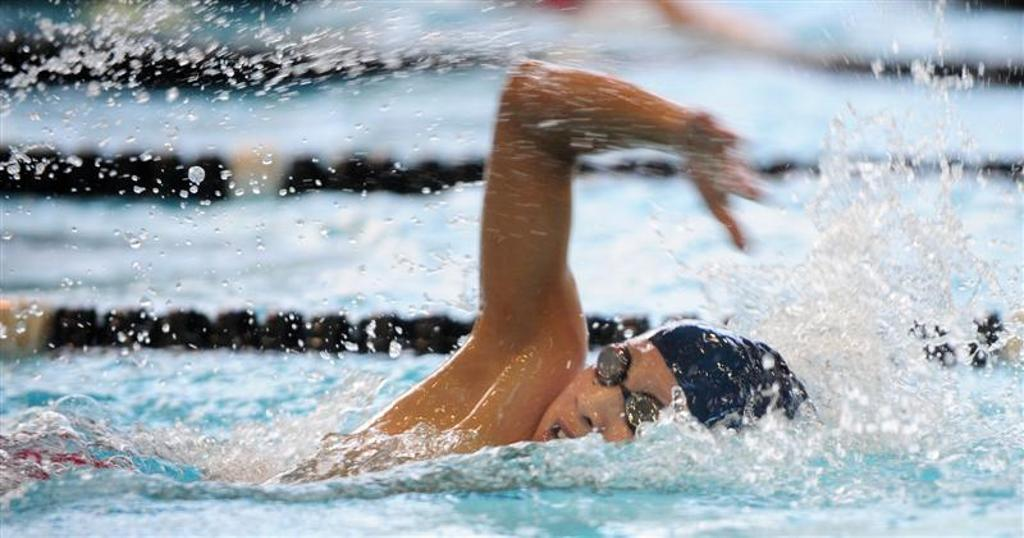face: (539, 333, 703, 495)
